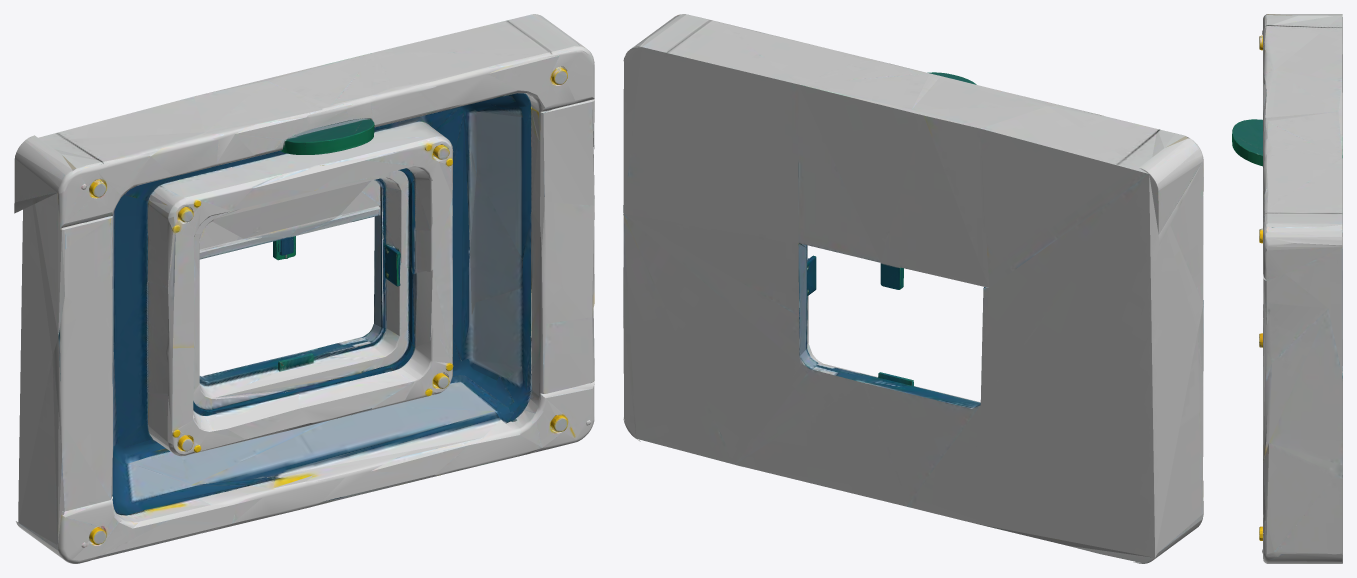
Rendered from viewing-window.gltf.
3 views of the same model, side by side, from view 1: azimuth 30°, elevation 25°; view 2: azimuth 150°, elevation 25°; view 3: azimuth 270°, elevation 25° (orthographic). The views are drawn at different scales.
Size of the model in its own units: 1.9 by 1.34 by 0.3972.
1 material, 1 textured.
